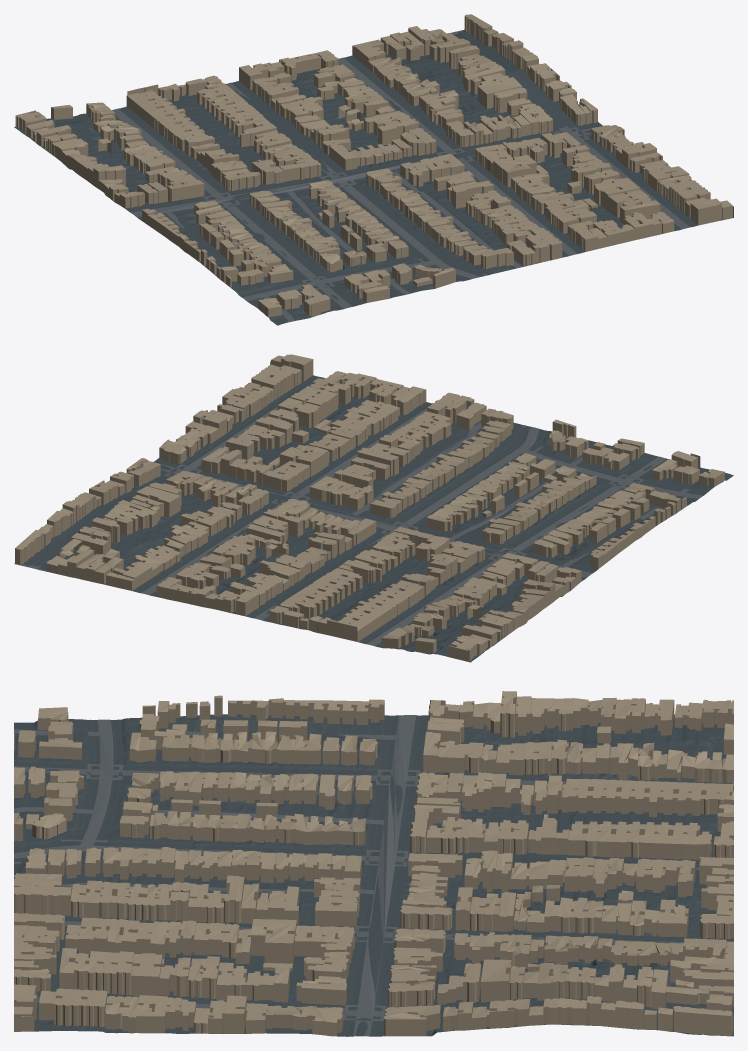
The model's file is epsg26910-1419-10890.lod0.glb.
3 views of the same model, one above another, from view 1: azimuth 30°, elevation 25°; view 2: azimuth 150°, elevation 25°; view 3: azimuth 270°, elevation 25° (orthographic). The views are drawn at different scales.
Visible parts, largest first — view 1: epsg26910-1419-10890-lod0; view 2: epsg26910-1419-10890-lod0; view 3: epsg26910-1419-10890-lod0.
Boxes of the visible parts, x1=… form: epsg26910-1419-10890-lod0: x1=14, y1=14, x2=733, y2=325; epsg26910-1419-10890-lod0: x1=14, y1=354, x2=733, y2=662; epsg26910-1419-10890-lod0: x1=14, y1=691, x2=733, y2=1036.
Size of the model in its own units: 384 by 24.41 by 384.
